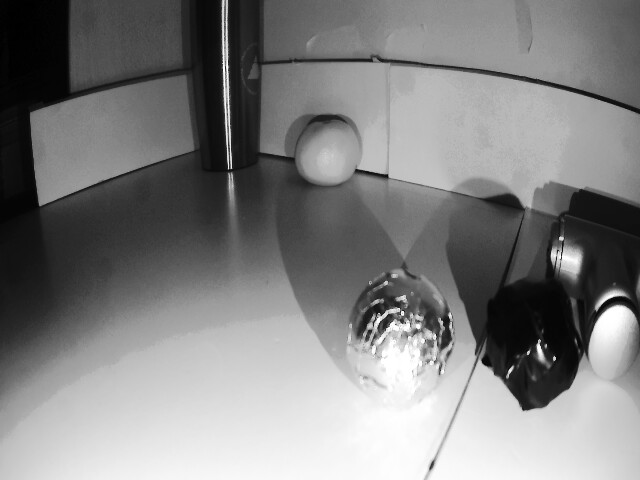black: (479, 282, 592, 414)
silver: (340, 277, 457, 406)
